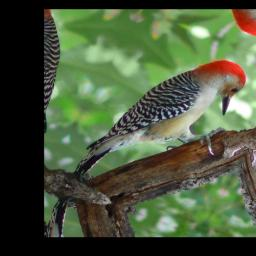Woodpecker: (66, 27, 256, 218)
